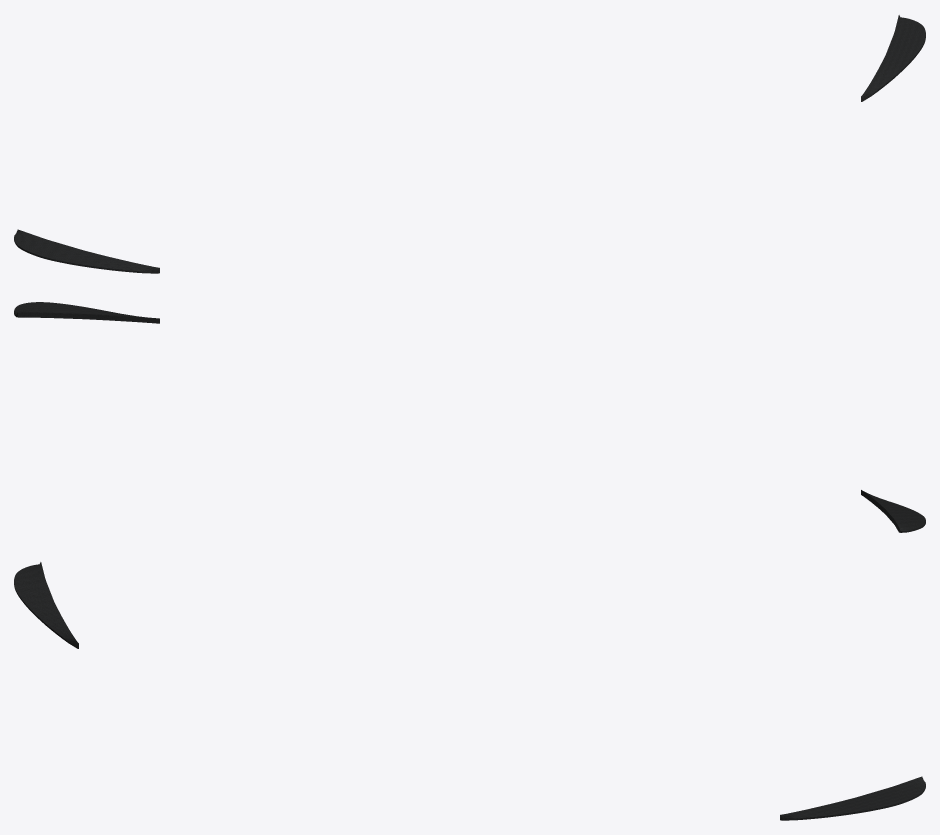
File: FA05_dive_planes.glb
3 views of the same model, one above another, from view 1: azimuth 30°, elevation 25°; view 2: azimuth 150°, elevation 25°; view 3: azimuth 330°, elevation 25° (orthographic).
Visible parts, largest first — view 1: MOD_ND_FA05_canard_neg1, MOD_ND_FA05_canard_1; view 2: MOD_ND_FA05_canard_1, MOD_ND_FA05_canard_neg1; view 3: MOD_ND_FA05_canard_1, MOD_ND_FA05_canard_neg1.
Part boxes in pixels (left/top/right/bottom): MOD_ND_FA05_canard_neg1: left=14, top=229, right=159, bottom=273; MOD_ND_FA05_canard_1: left=861, top=15, right=925, bottom=101; MOD_ND_FA05_canard_1: left=14, top=302, right=159, bottom=323; MOD_ND_FA05_canard_neg1: left=861, top=490, right=925, bottom=532; MOD_ND_FA05_canard_1: left=780, top=776, right=925, bottom=820; MOD_ND_FA05_canard_neg1: left=14, top=562, right=78, bottom=648.
Bounding box in the file's own units: 1.61 × 0.047 × 0.16.
1 material, 1 textured.
